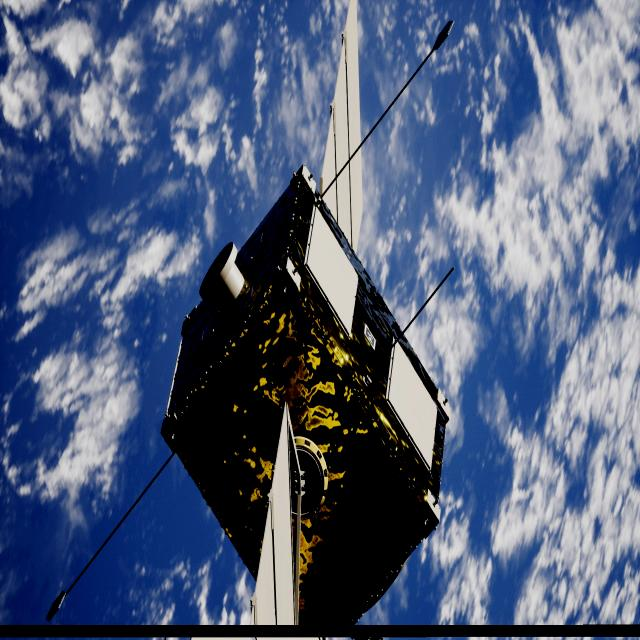satellite: (161, 0, 450, 634)
